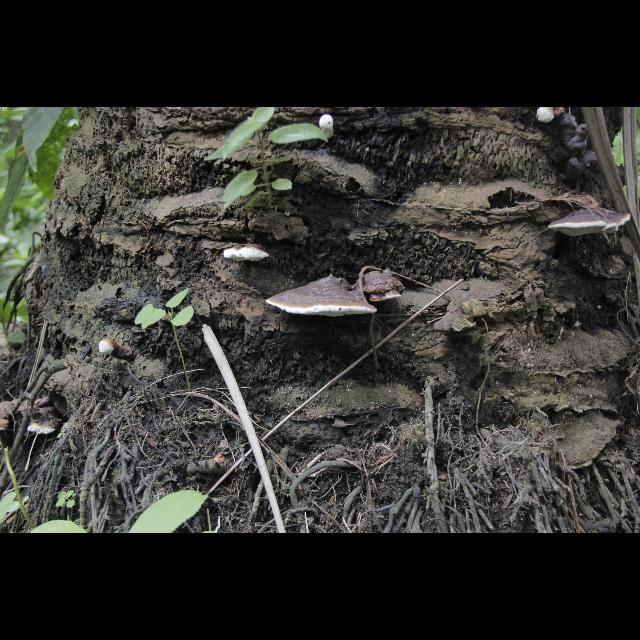ganoderma: (267, 276, 380, 319), (556, 109, 600, 182), (548, 205, 632, 238), (359, 271, 407, 304), (224, 245, 271, 264), (28, 414, 63, 436)
primordium: (319, 114, 335, 140), (100, 339, 118, 357), (537, 108, 556, 124)
